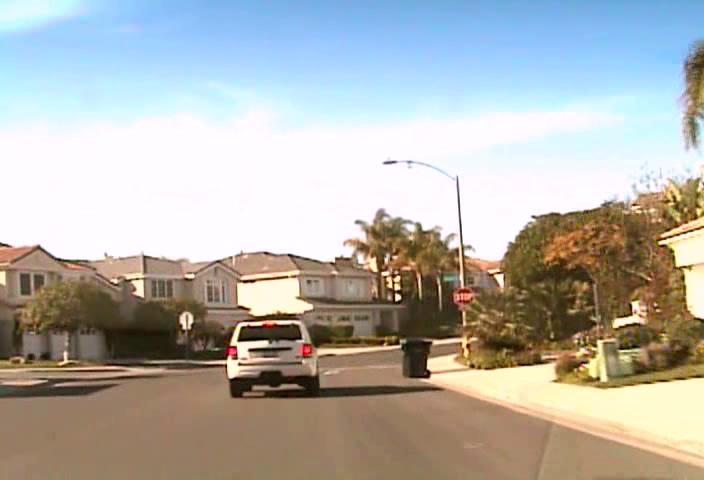stop: (453, 286, 476, 308)
